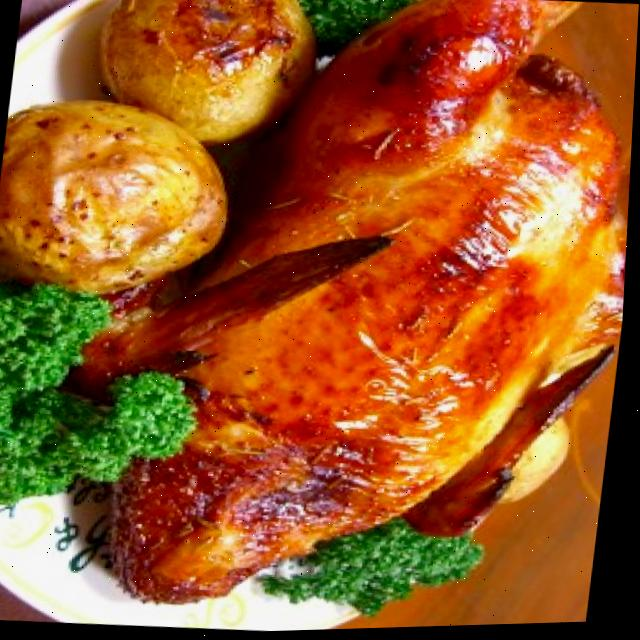鸡肉料理 含炸鸡: (45, 0, 640, 635)
